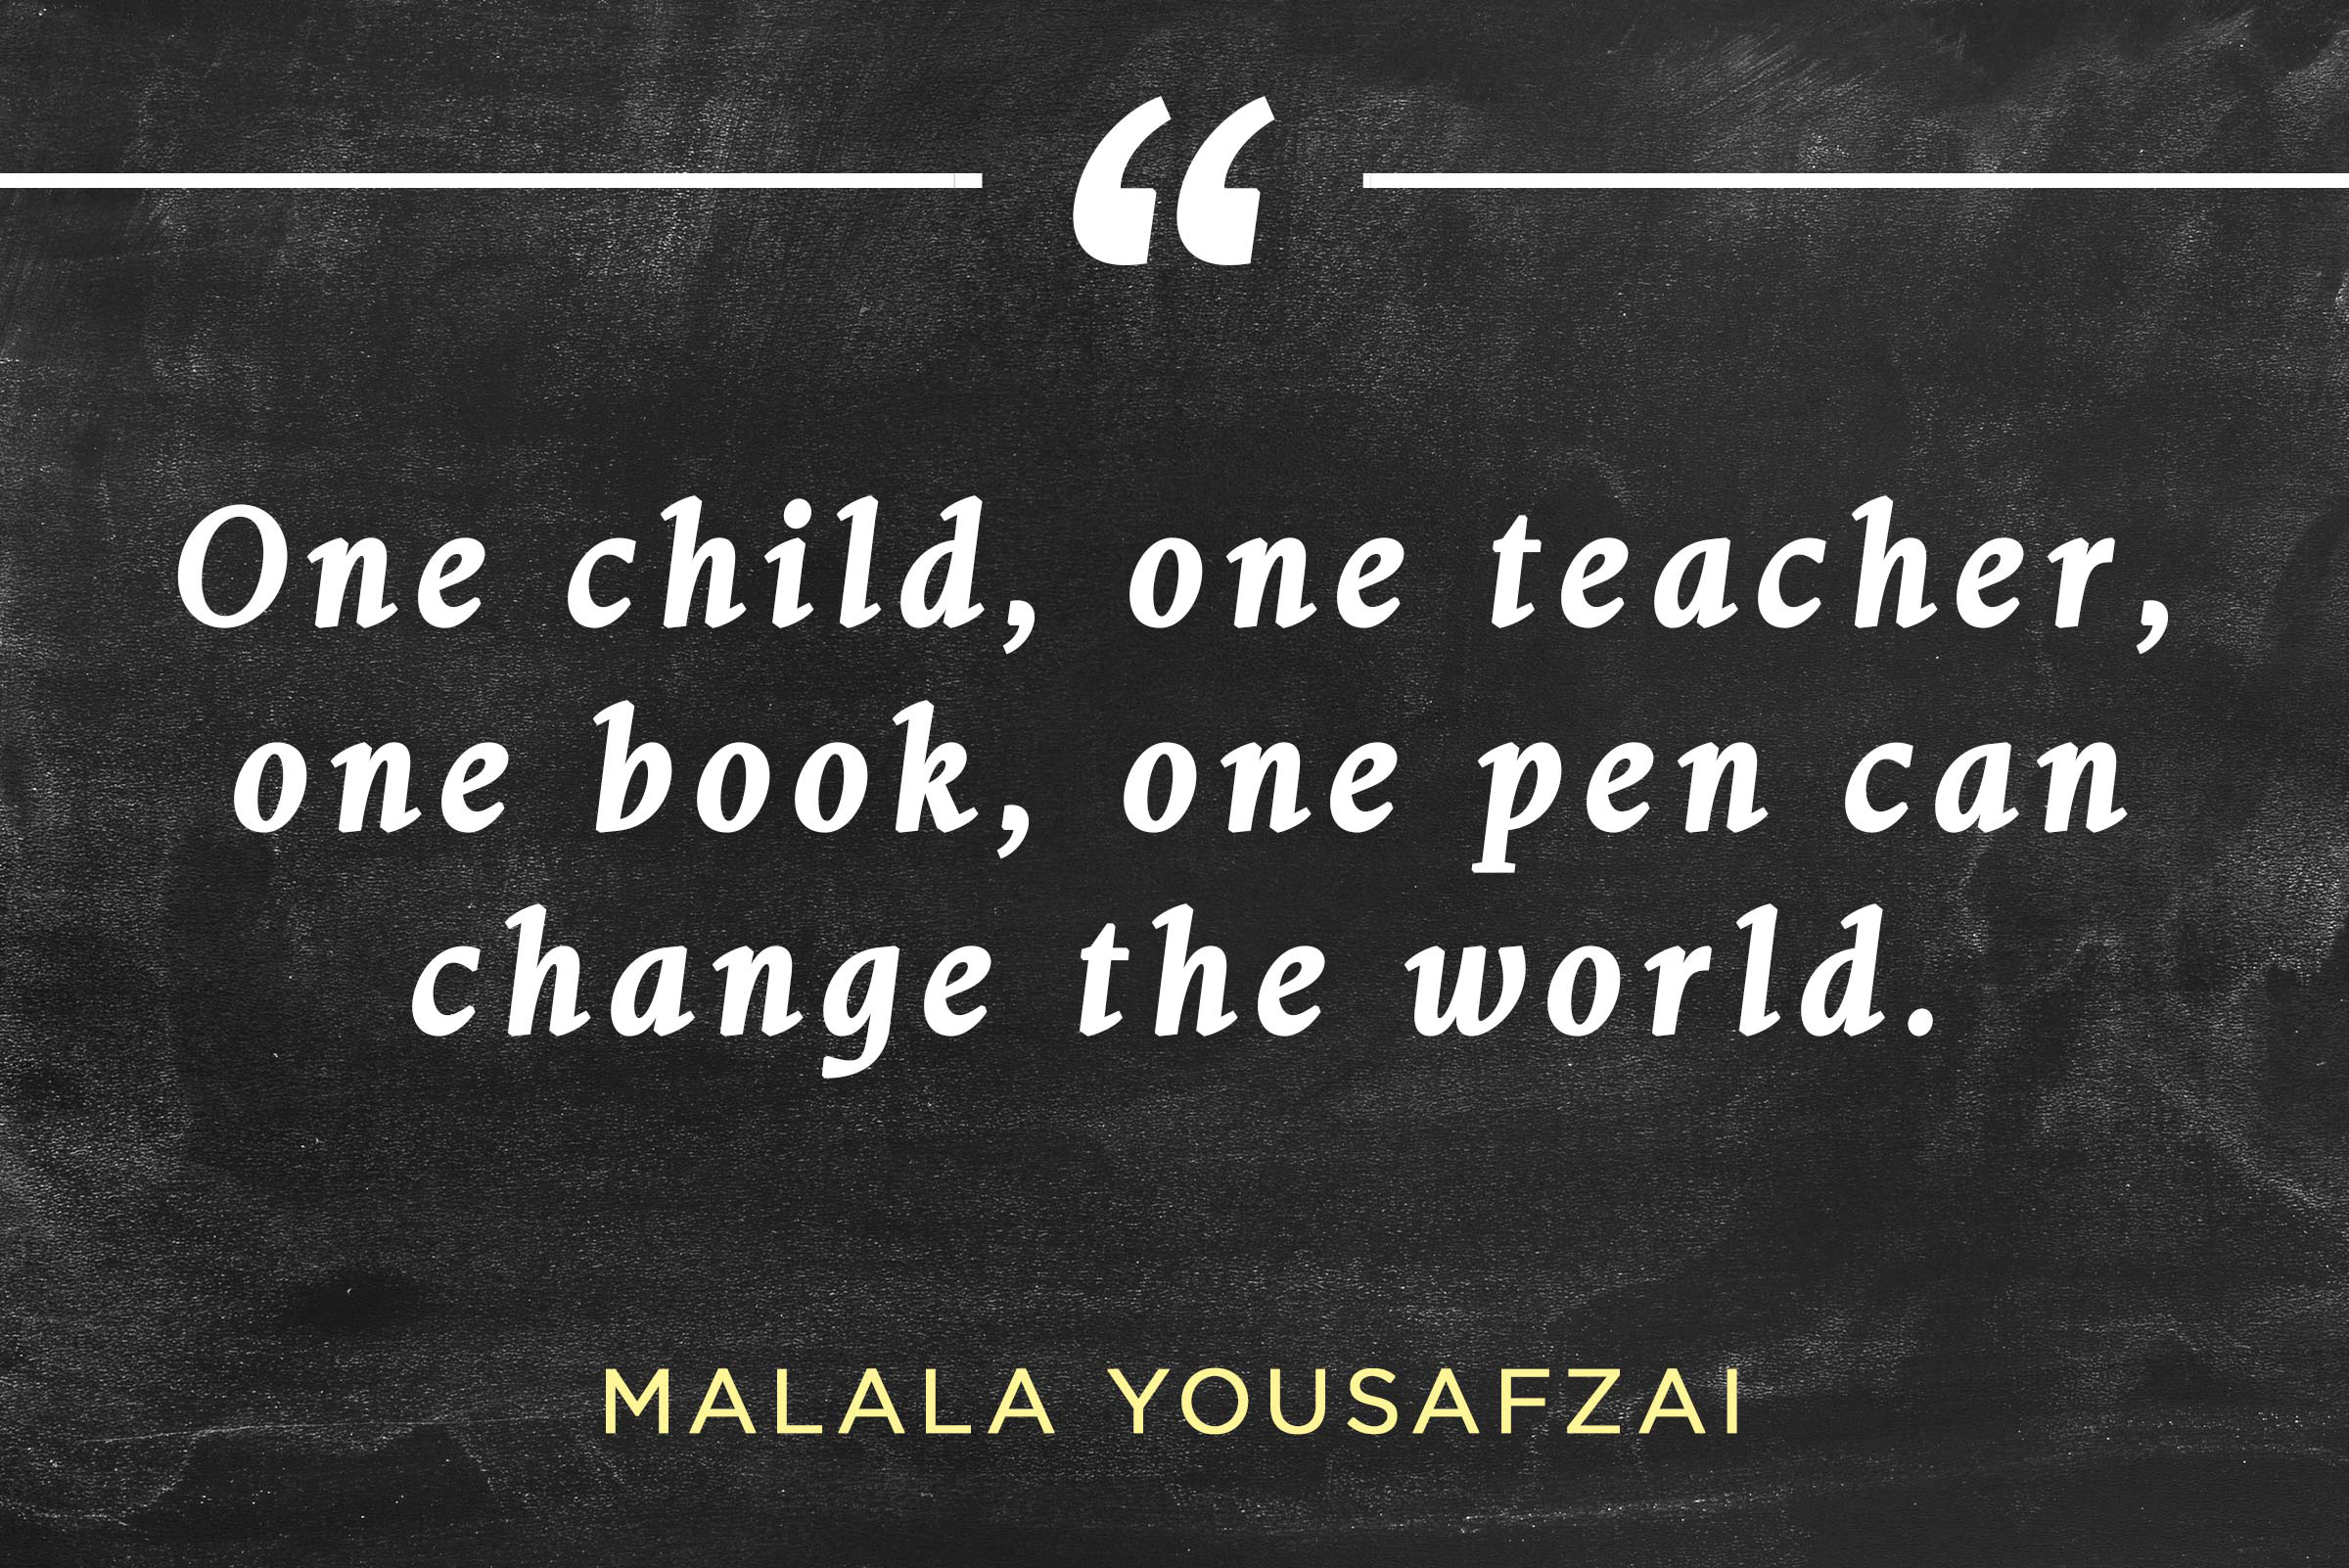latin: (166, 486, 2197, 1069), (591, 1360, 1756, 1438)
